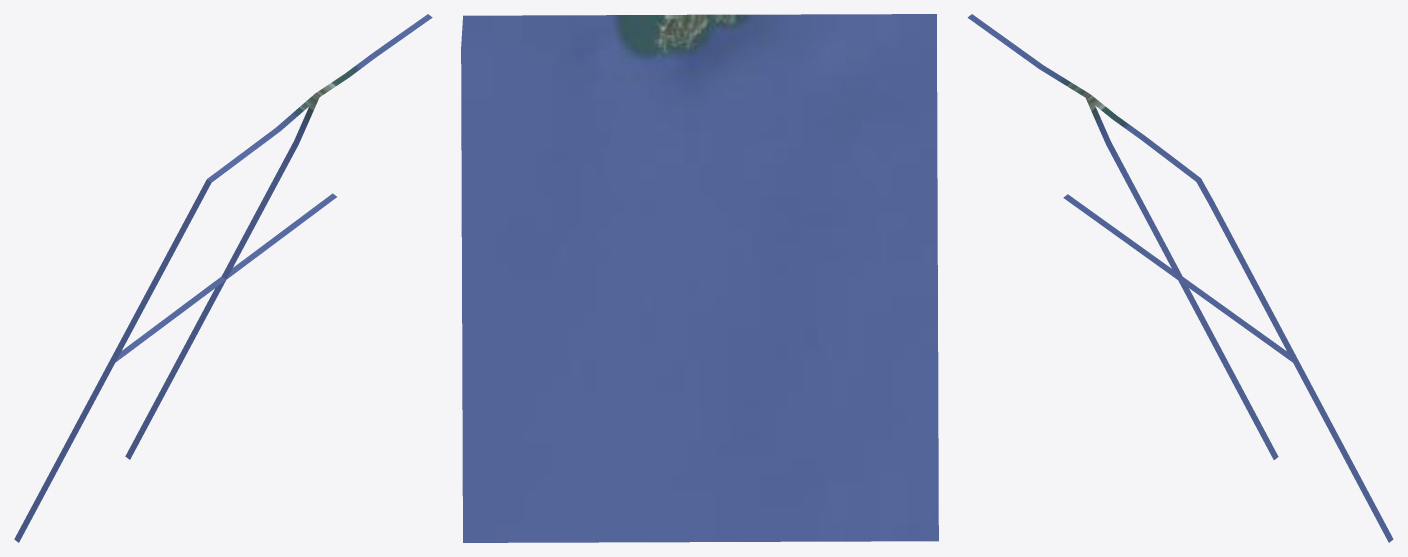
3 views of the same model, side by side, from view 1: azimuth 30°, elevation 25°; view 2: azimuth 150°, elevation 25°; view 3: azimuth 270°, elevation 25° (orthographic). The views are drawn at different scales.
Bounding box in the file's own units: 19694 × 17757 × 16645.
1 material, 1 textured.
